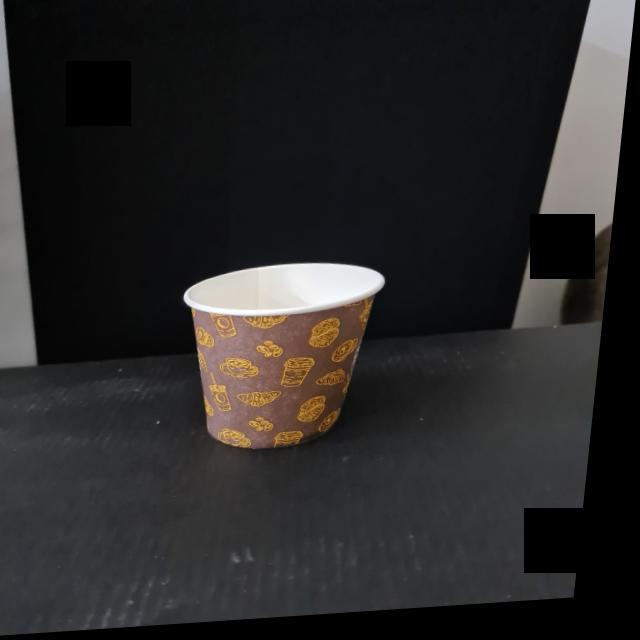cups: (153, 243, 416, 470)
